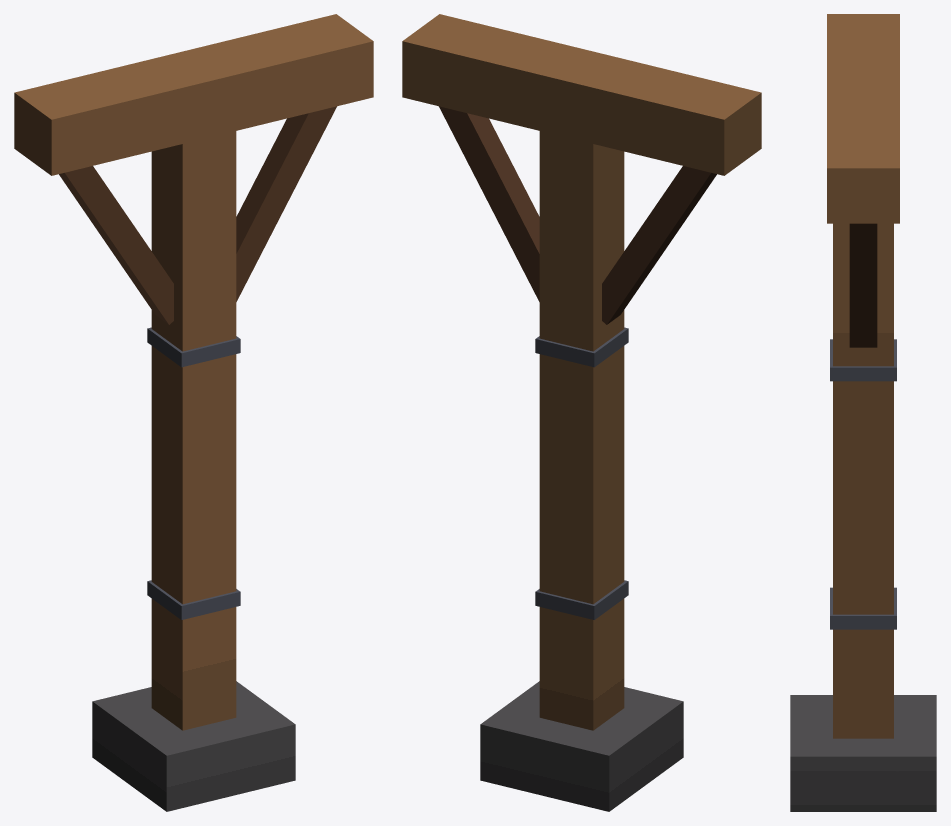
The model's file is support_beam.glb.
3 views of the same model, side by side, from view 1: azimuth 30°, elevation 25°; view 2: azimuth 150°, elevation 25°; view 3: azimuth 270°, elevation 25° (orthographic).
Size of the model in its own units: 1.2 by 2.5 by 0.48.
Materials: 1 (1 with a texture image).
